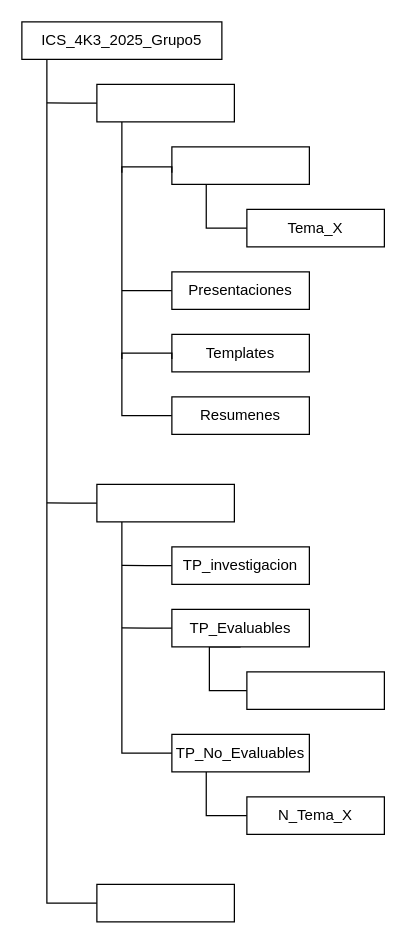
Some shapes in this 406 by 944 pixel diagram are drawn without their labels. The centre of each missing label's shape, as x and y in pixels:
Bibliografia: [240,165]
Material: [165,102]
Planificacion: [165,902]
Practicos: [165,502]
TP_N: [315,690]
